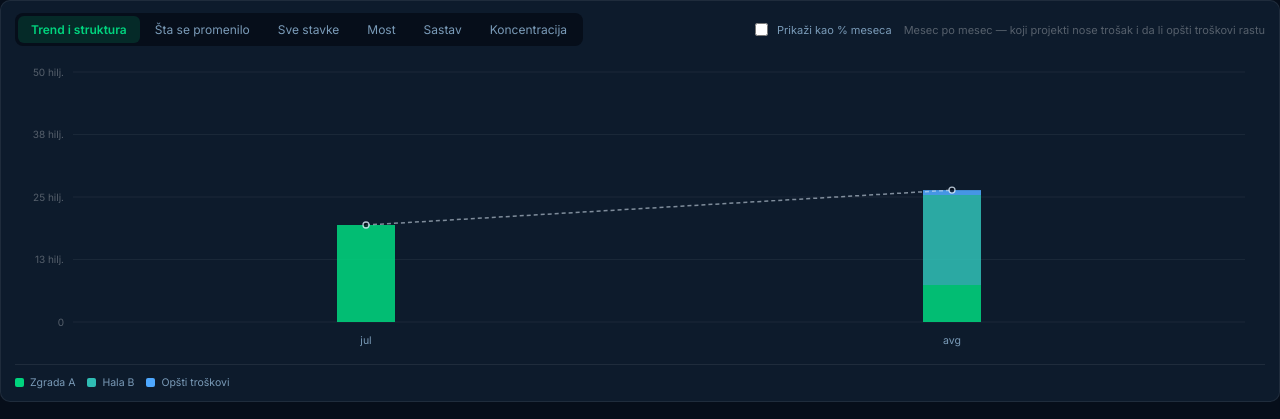
Scenario: the panels that read a level › names the project branch its own levels, not a generic "Detail"
Click the button "Šta se promenilo": [202, 30] box [142,16,263,43]
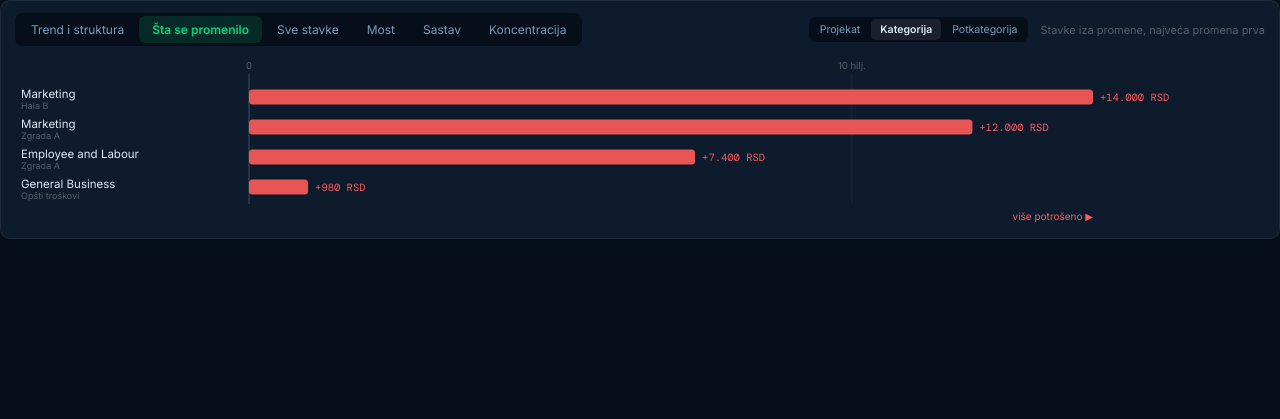
Result: the button "Projekat" is shown at [811,19,869,40]
Result: the button "Kategorija" is shown at [871,19,941,40]
Result: the button "Potkategorija" is shown at [943,19,1026,40]
